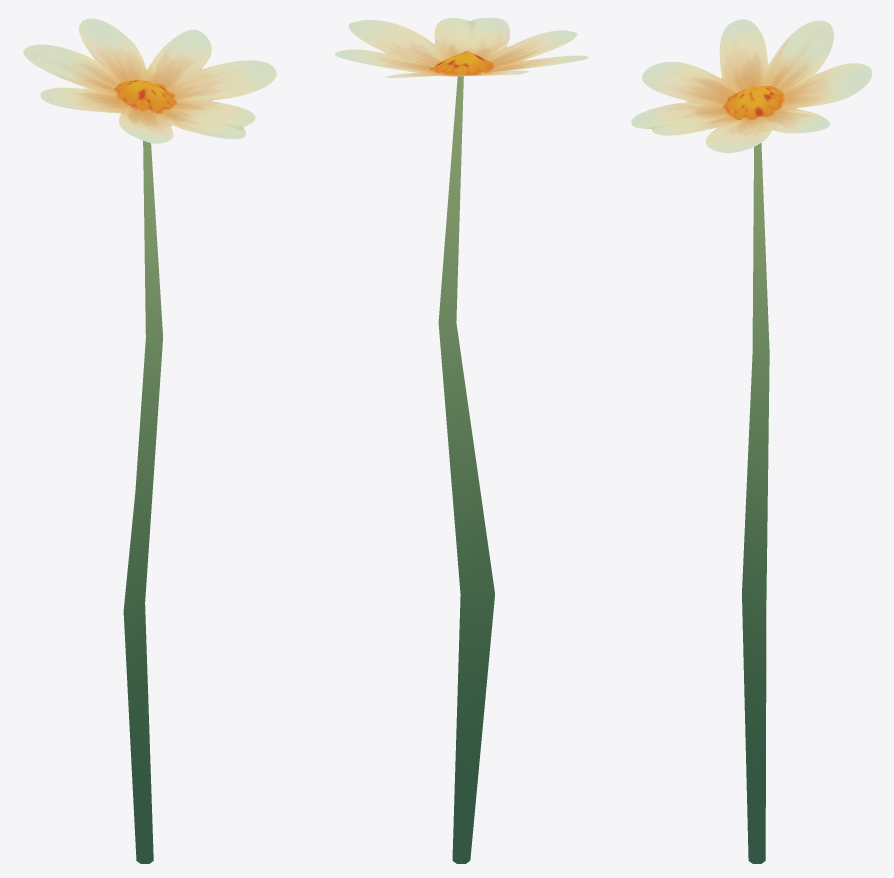
File: chamomille_2.fbx
3 views of the same model, side by side, from view 1: azimuth 30°, elevation 25°; view 2: azimuth 150°, elevation 25°; view 3: azimuth 270°, elevation 25° (orthographic). The views are drawn at different scales.
Parts seen in each view (by area): view 1: camomille_2_low; view 2: camomille_2_low; view 3: camomille_2_low.
Boxes of the visible parts, <box> form: camomille_2_low: <box>23,18,276,863</box>; camomille_2_low: <box>334,17,588,863</box>; camomille_2_low: <box>631,19,872,863</box>.
Size of the model in its own units: 69.1 by 214 by 61.7.
